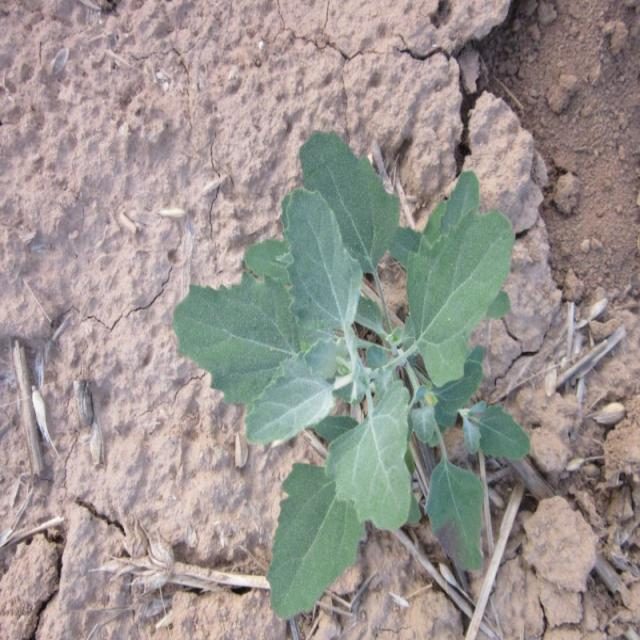ca: (180, 136, 528, 608)
